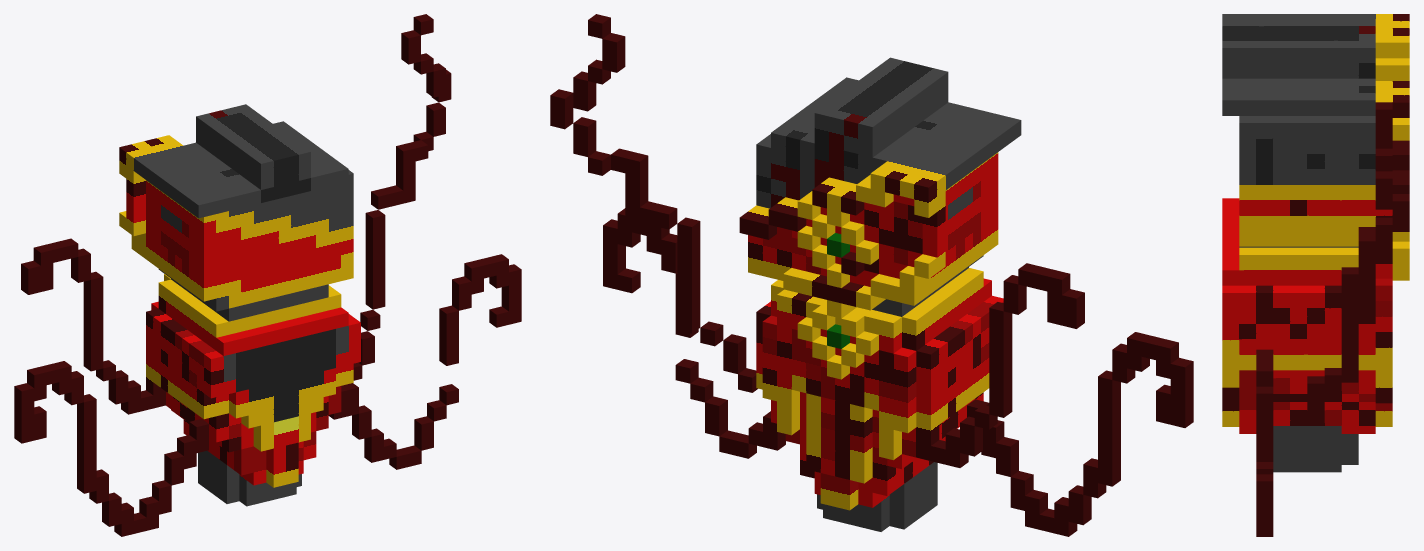
The model's file is Nung Rum_Body_2.fbx.
3 renders of one model, left to right at view 1: azimuth 30°, elevation 25°; view 2: azimuth 150°, elevation 25°; view 3: azimuth 270°, elevation 25°, orthographic. The views are drawn at different scales.
Parts seen in each view (by area): view 1: Nung Rum_Body_2.001; view 2: Nung Rum_Body_2.001; view 3: Nung Rum_Body_2.001.
Boxes of the visible parts, bbox=[...] form: Nung Rum_Body_2.001: bbox=[14, 14, 521, 536]; Nung Rum_Body_2.001: bbox=[550, 14, 1193, 536]; Nung Rum_Body_2.001: bbox=[1222, 14, 1409, 536].
Size of the model in its own units: 4 by 3 by 1.1.
Materials: 1 (1 with a texture image).
